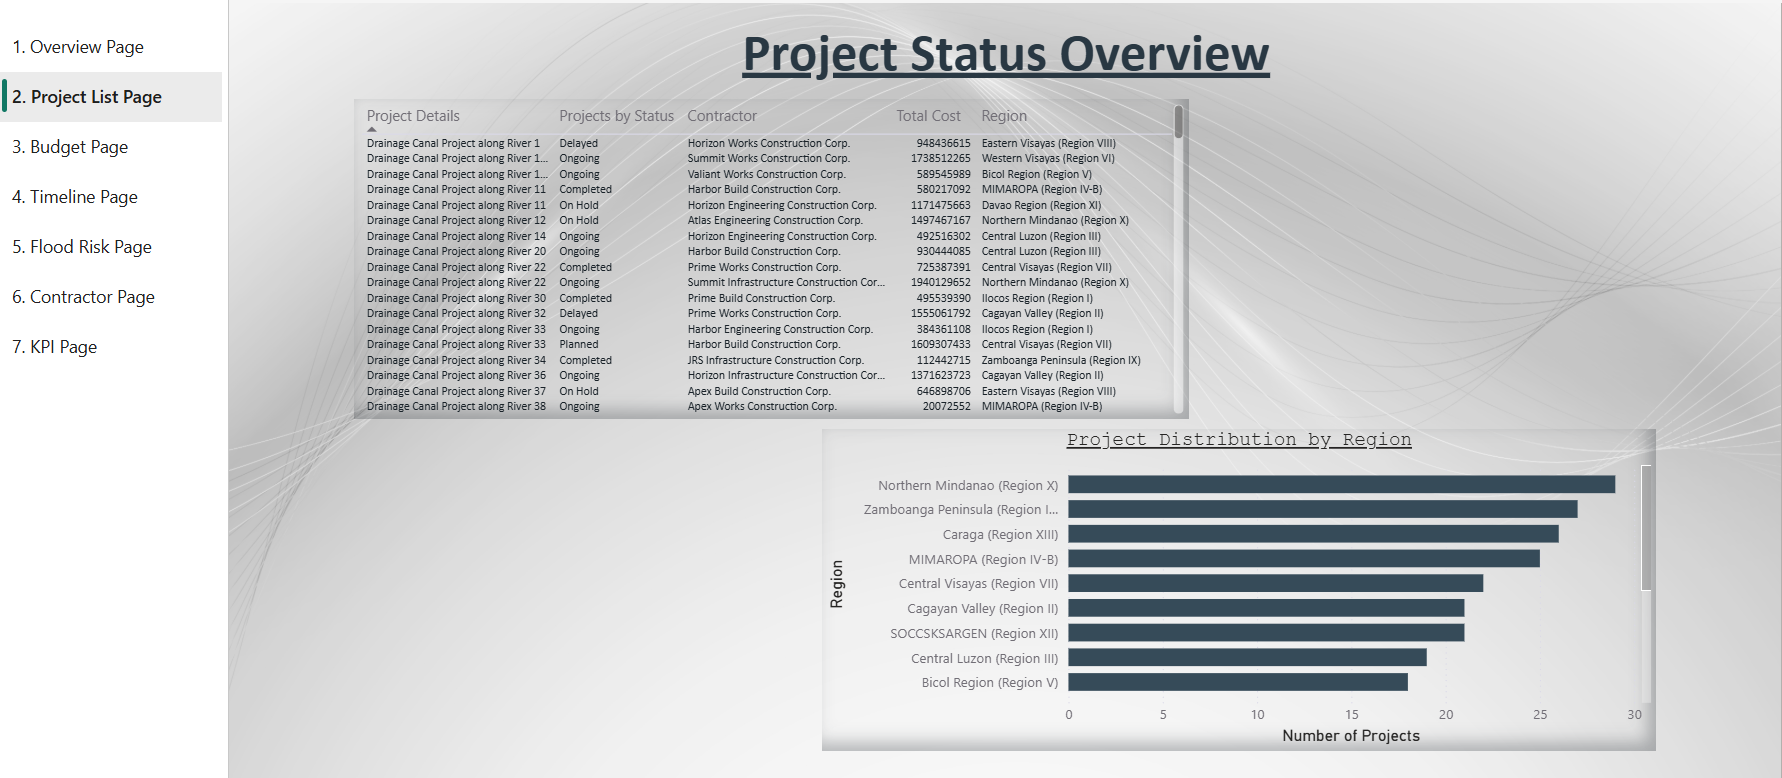

Layout of this report page (visuals, bound fields, positions):
{"tool":"powerbi","page":{"name":"2. Project List Page","canvas":[1280,700],"ordinal":1},"visuals":[{"type":"textbox","box":[52.5,9.7,1175,70],"z":0},{"type":"tableEx","fields":{"Values":["Project_List.Project_Name","Project_List.Project_Status","Project_List.Contractor","Sum(Project_List.Total_Cost (PHP))","Project_List.Region"]},"box":[52,87.3,753.8,289.2],"z":4001},{"type":"barChart","title":"Project Distribution by Region","fields":{"Category":["KPI_Summary.Region"],"Y":["CountNonNull(Project_List.City/Municipality)"]},"box":[474.3,385.3,753.8,290.1],"z":4002}]}

Visuals, with their boxes on the page's 1280x700 design canvas (x1, y1, x2, y2). These are canvas units, not pixel positions in the 1782x778 screenshot, which may show the page scaled, cropped or inside an application window:
textbox: 52/10/1228/80
tableEx - Project_List.Project_Name x Project_List.Project_Status: 52/87/806/376
"Project Distribution by Region" barChart: 474/385/1228/675
